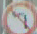Don't turn left: (1, 1, 36, 32)
